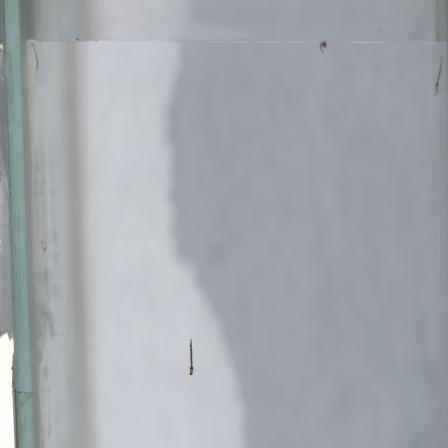Jentik-Nyamuk: (186, 336, 199, 378), (317, 41, 329, 55)
